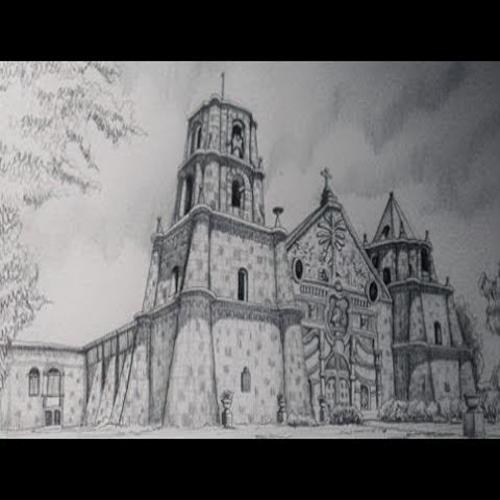Miagao Church: (144, 75, 484, 422)
